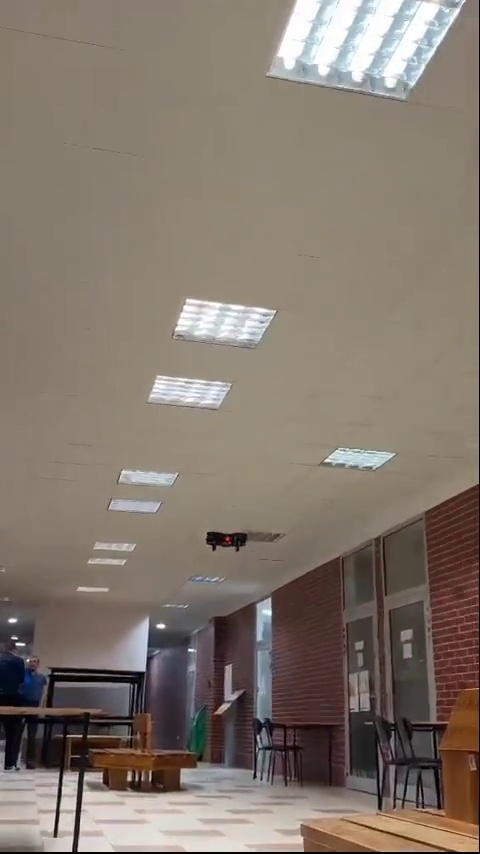drone: (203, 530, 249, 553)
no vest: (20, 652, 51, 770)
